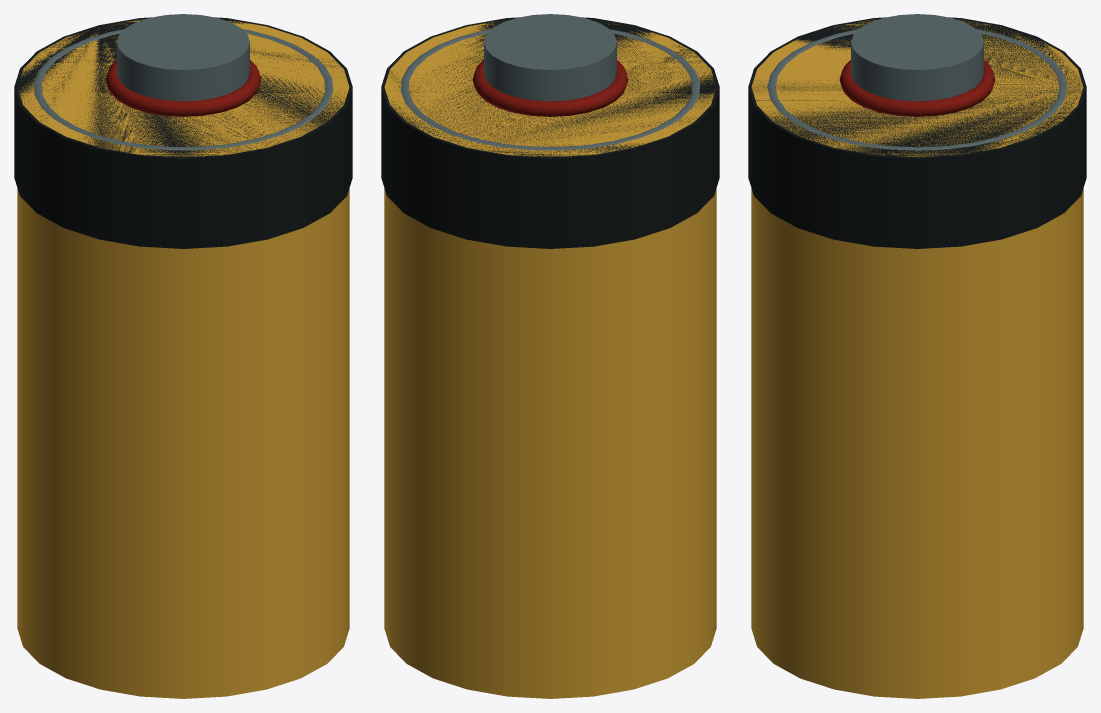
The model's file is Battery.obj.
3 views of the same model, side by side, from view 1: azimuth 30°, elevation 25°; view 2: azimuth 150°, elevation 25°; view 3: azimuth 270°, elevation 25° (orthographic).
Parts seen in each view (by area): view 1: Battery; view 2: Battery; view 3: Battery.
Boxes of the visible parts, bbox=[...] form: Battery: bbox=[14, 14, 352, 698]; Battery: bbox=[381, 14, 719, 698]; Battery: bbox=[748, 14, 1086, 698].
Size of the model in its own units: 0.204 by 0.39 by 0.204.
